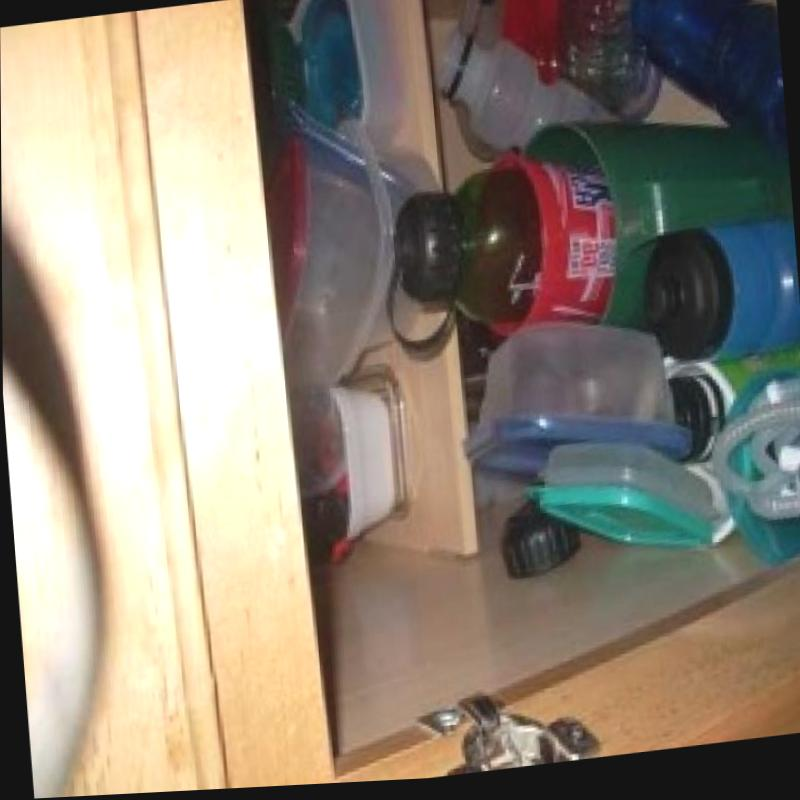botella: (433, 14, 624, 172), (550, 0, 656, 128)
